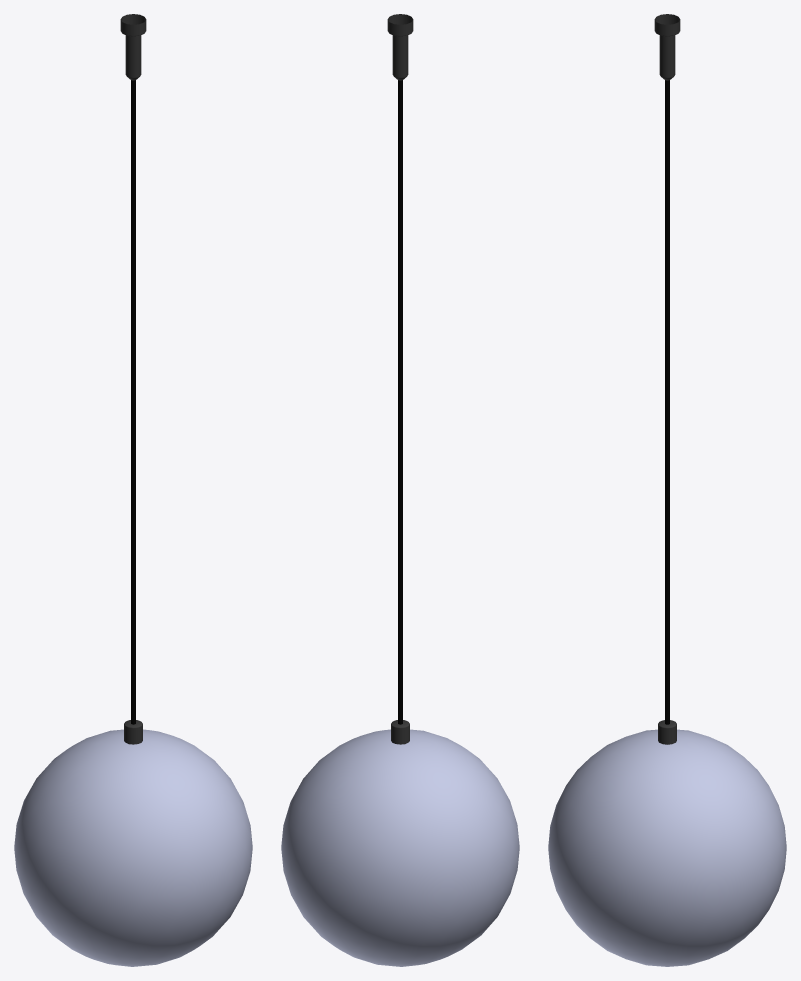
The model's file is SM_PendantLight_009d.FBX.
The picture shows the model from 3 angles, left to right: view 1: azimuth 30°, elevation 25°; view 2: azimuth 150°, elevation 25°; view 3: azimuth 270°, elevation 25°; orthographic projection.
Parts seen in each view (by area): view 1: SM_PendantLight_009d; view 2: SM_PendantLight_009d; view 3: SM_PendantLight_009d.
Part boxes in pixels (left/top/right/bottom): SM_PendantLight_009d: left=14, top=14, right=252, bottom=966; SM_PendantLight_009d: left=281, top=14, right=519, bottom=966; SM_PendantLight_009d: left=548, top=14, right=786, bottom=966.
Bounding box in the file's own units: 29.79 × 29.95 × 130.
